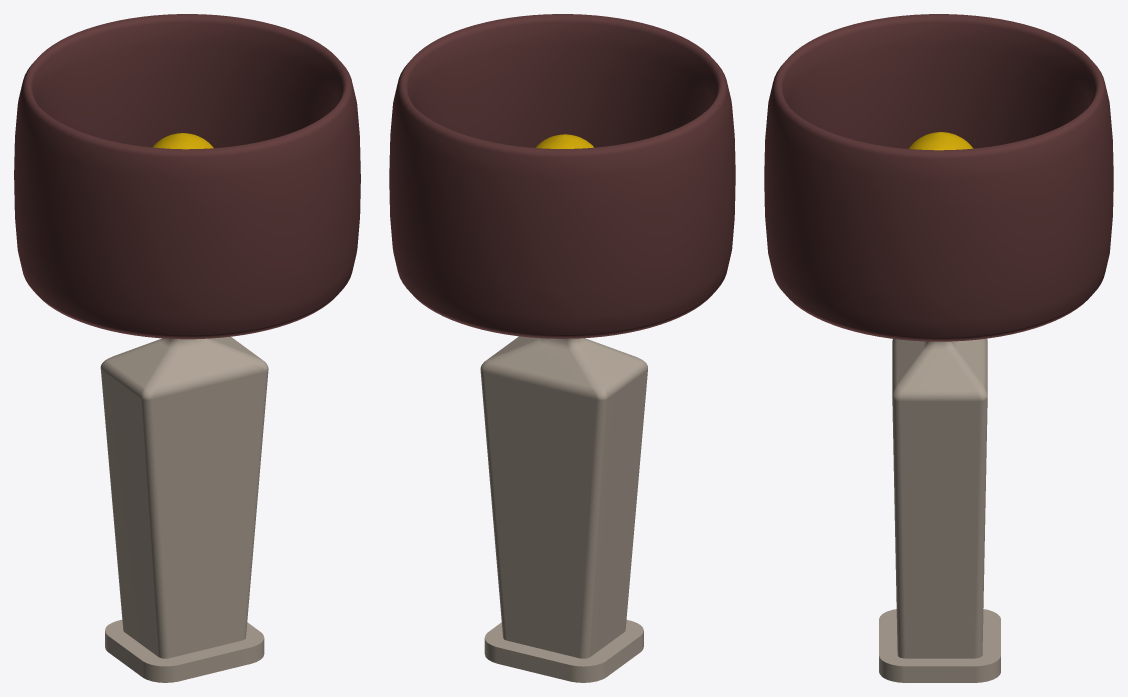
Rendered from LampeSalon2_6.fbx.
The picture shows the model from 3 angles, left to right: view 1: azimuth 30°, elevation 25°; view 2: azimuth 150°, elevation 25°; view 3: azimuth 270°, elevation 25°; orthographic projection.
Visible parts, largest first — view 1: pPipe117, pCube2060, pCylinder776; view 2: pPipe117, pCube2060, pCylinder776; view 3: pPipe117, pCube2060, pCylinder776.
Boxes of the visible parts, x1,y1,x2,y2 form: pPipe117: [14, 14, 360, 339]; pCube2060: [100, 336, 268, 682]; pCylinder776: [152, 133, 213, 149]; pPipe117: [389, 14, 735, 338]; pCube2060: [480, 336, 647, 682]; pCylinder776: [535, 134, 593, 148]; pPipe117: [764, 14, 1113, 341]; pCube2060: [879, 338, 1000, 682]; pCylinder776: [908, 132, 973, 150].
Size of the model in its own units: 31.01 by 56.08 by 31.01.
